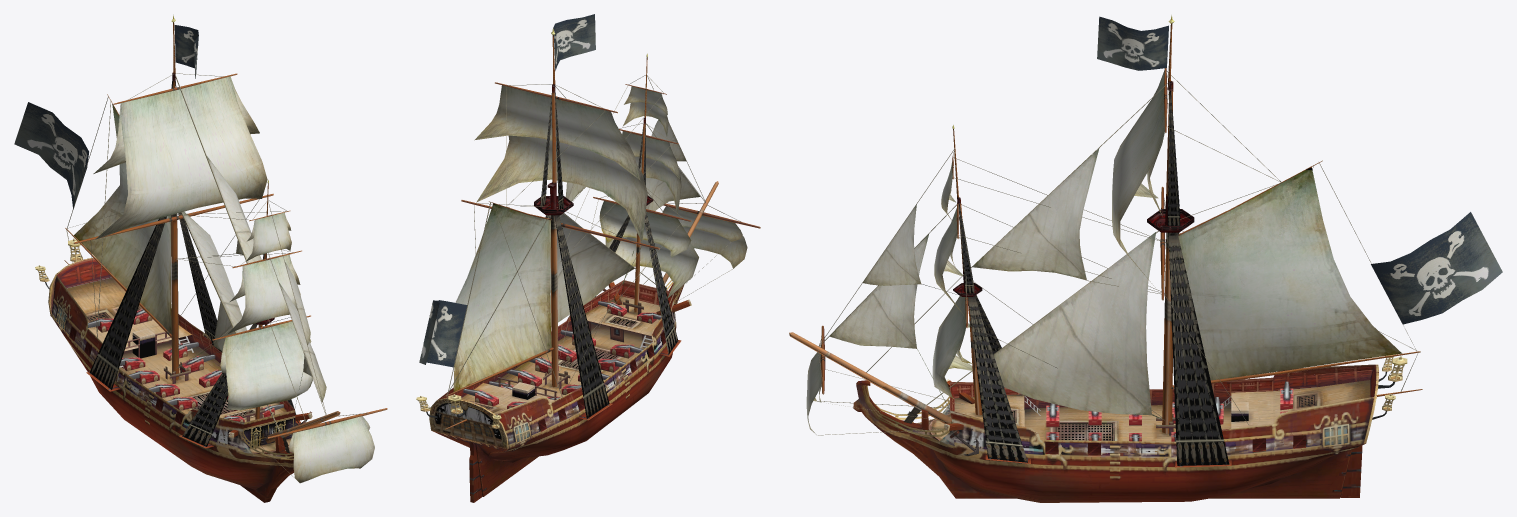
Rendered from ship_brigantine.glb.
The picture shows the model from 3 angles, left to right: view 1: azimuth 30°, elevation 25°; view 2: azimuth 150°, elevation 25°; view 3: azimuth 270°, elevation 25°; orthographic projection. The views are drawn at different scales.
Visible parts, largest first — view 1: hull_hull_96, sail_hull_78_component_00, sail_hull_41_component_00, sail_hull_60_component_00, sail_hull_65_component_00, flag_hull_122_component_01, sail_hull_69_component_00, sail_hull_74_component_00, native_hull_31_component_07, sail_hull_60_component_02, sail_hull_54_component_02, native_hull_31_component_01 (+13 smaller); view 2: hull_hull_96, sail_hull_41_component_00, sail_furled_hull_86_component_00, sail_hull_54_component_02, sail_hull_78_component_00, sail_hull_65_component_00, native_hull_31_component_07, flag_hull_122_component_01, sail_furled_hull_94_component_00, flag_hull_122_component_00, sail_furled_hull_90_component_00, sail_hull_60_component_00 (+19 smaller); view 3: hull_hull_96, sail_hull_41_component_00, sail_hull_54_component_02, flag_hull_122_component_01, native_hull_31_component_06, sail_hull_48_component_00, sail_hull_54_component_00, native_hull_31_component_00, sail_hull_78_component_00, flag_hull_122_component_00, sail_hull_54_component_01, native_hull_103_component_00 (+8 smaller).
Boxes of the visible parts, left/top/right/bottom form: hull_hull_96: left=48, top=258, right=312, bottom=502; sail_hull_78_component_00: left=95, top=76, right=265, bottom=239; sail_hull_41_component_00: left=74, top=104, right=171, bottom=334; sail_hull_60_component_00: left=255, top=416, right=374, bottom=483; sail_hull_65_component_00: left=120, top=90, right=267, bottom=225; flag_hull_122_component_01: left=14, top=102, right=88, bottom=208; sail_hull_69_component_00: left=224, top=321, right=307, bottom=410; sail_hull_74_component_00: left=225, top=323, right=312, bottom=410; native_hull_31_component_07: left=89, top=216, right=166, bottom=389; sail_hull_60_component_02: left=228, top=255, right=300, bottom=333; sail_hull_54_component_02: left=182, top=211, right=246, bottom=351; native_hull_31_component_01: left=182, top=323, right=257, bottom=446; hull_hull_96: left=429, top=280, right=691, bottom=502; sail_hull_41_component_00: left=453, top=203, right=551, bottom=391; sail_furled_hull_86_component_00: left=474, top=85, right=640, bottom=180; sail_hull_54_component_02: left=550, top=213, right=634, bottom=326; sail_hull_78_component_00: left=490, top=146, right=647, bottom=209; sail_hull_65_component_00: left=476, top=135, right=647, bottom=242; native_hull_31_component_07: left=554, top=215, right=609, bottom=418; flag_hull_122_component_01: left=419, top=300, right=467, bottom=367; sail_furled_hull_94_component_00: left=481, top=94, right=637, bottom=170; flag_hull_122_component_00: left=553, top=14, right=595, bottom=70; sail_furled_hull_90_component_00: left=599, top=201, right=691, bottom=252; sail_hull_60_component_00: left=643, top=227, right=747, bottom=302; hull_hull_96: left=853, top=364, right=1378, bottom=502; sail_hull_41_component_00: left=1178, top=166, right=1401, bottom=380; sail_hull_54_component_02: left=994, top=232, right=1155, bottom=415; flag_hull_122_component_01: left=1371, top=212, right=1502, bottom=324; native_hull_31_component_06: left=1168, top=234, right=1229, bottom=465; sail_hull_48_component_00: left=972, top=148, right=1165, bottom=294; sail_hull_54_component_00: left=829, top=234, right=949, bottom=409; native_hull_31_component_00: left=968, top=296, right=1027, bottom=463; sail_hull_78_component_00: left=1112, top=70, right=1164, bottom=264; flag_hull_122_component_00: left=1097, top=16, right=1168, bottom=70; sail_hull_54_component_01: left=863, top=204, right=967, bottom=297; native_hull_103_component_00: left=1162, top=232, right=1172, bottom=433.
Size of the model in its own units: 12.11 by 24.35 by 32.6.
Materials: 117 (117 with a texture image).
